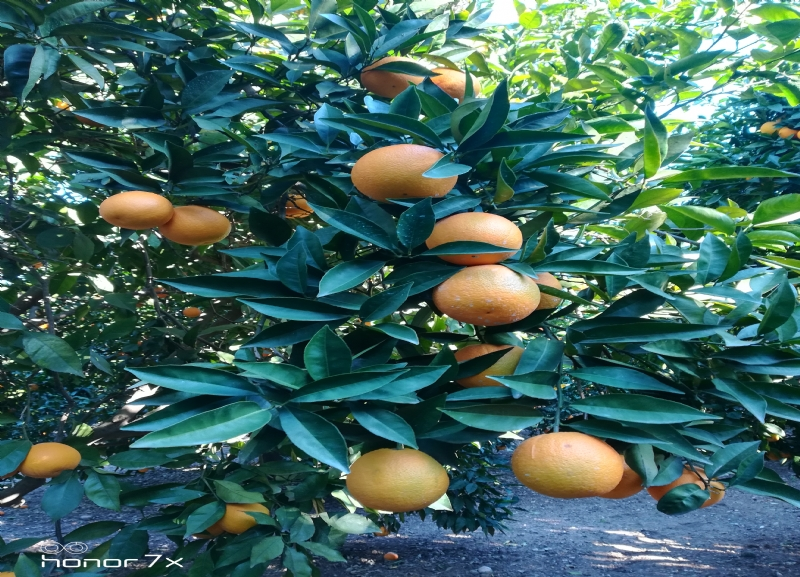portakal: (348, 440, 465, 516), (352, 135, 479, 205), (501, 437, 623, 501), (422, 205, 535, 264), (418, 270, 540, 321), (15, 425, 101, 497), (213, 487, 304, 539), (92, 179, 175, 231), (652, 446, 706, 508)
